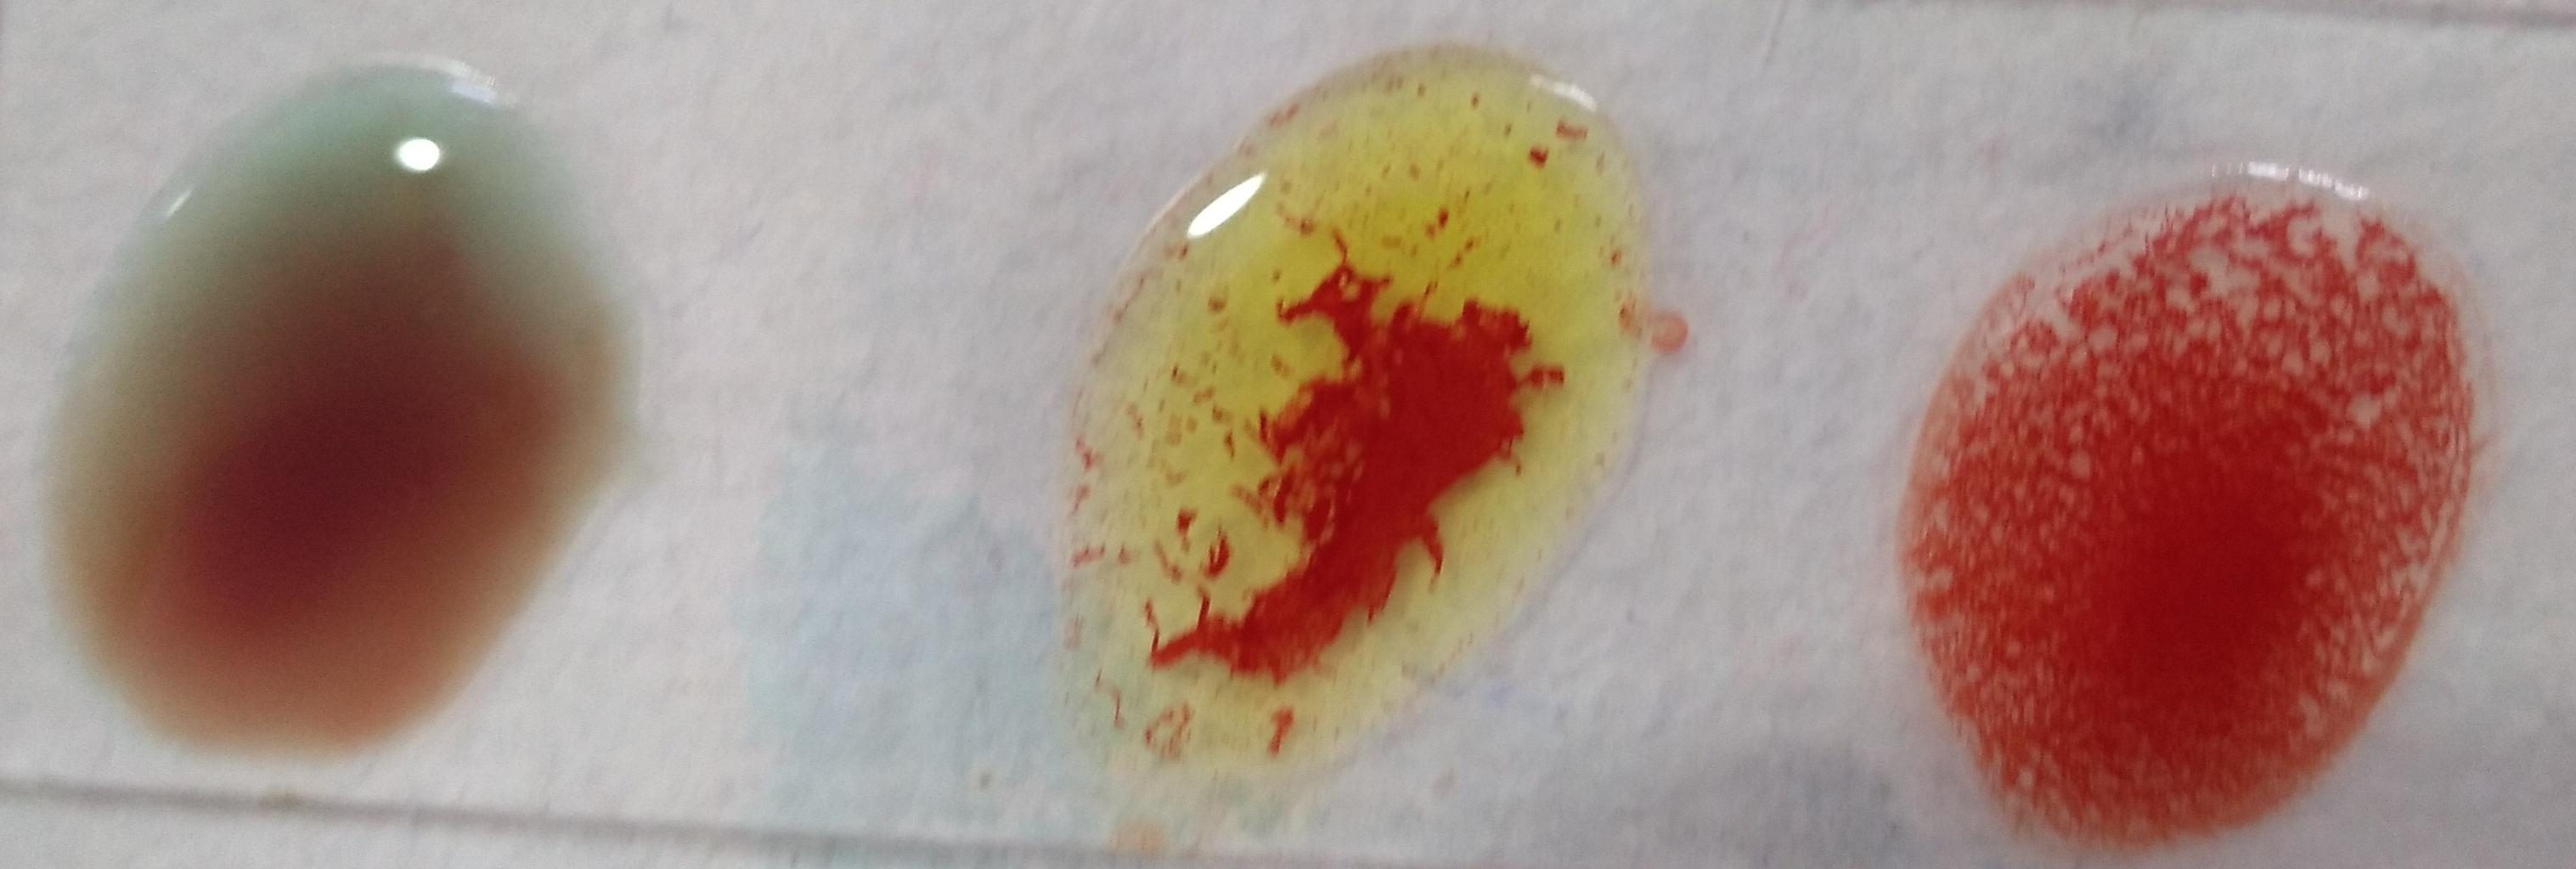B: (1089, 31, 1646, 784)
D: (1917, 184, 2463, 856)
